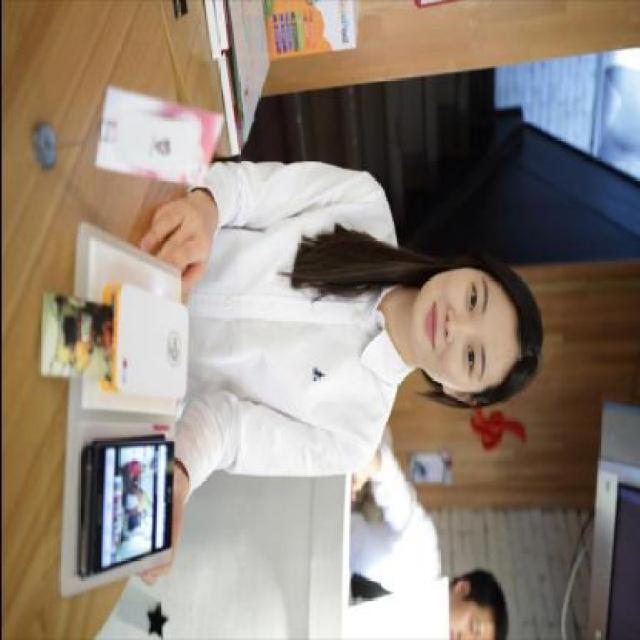phone: (78, 442, 174, 579)
